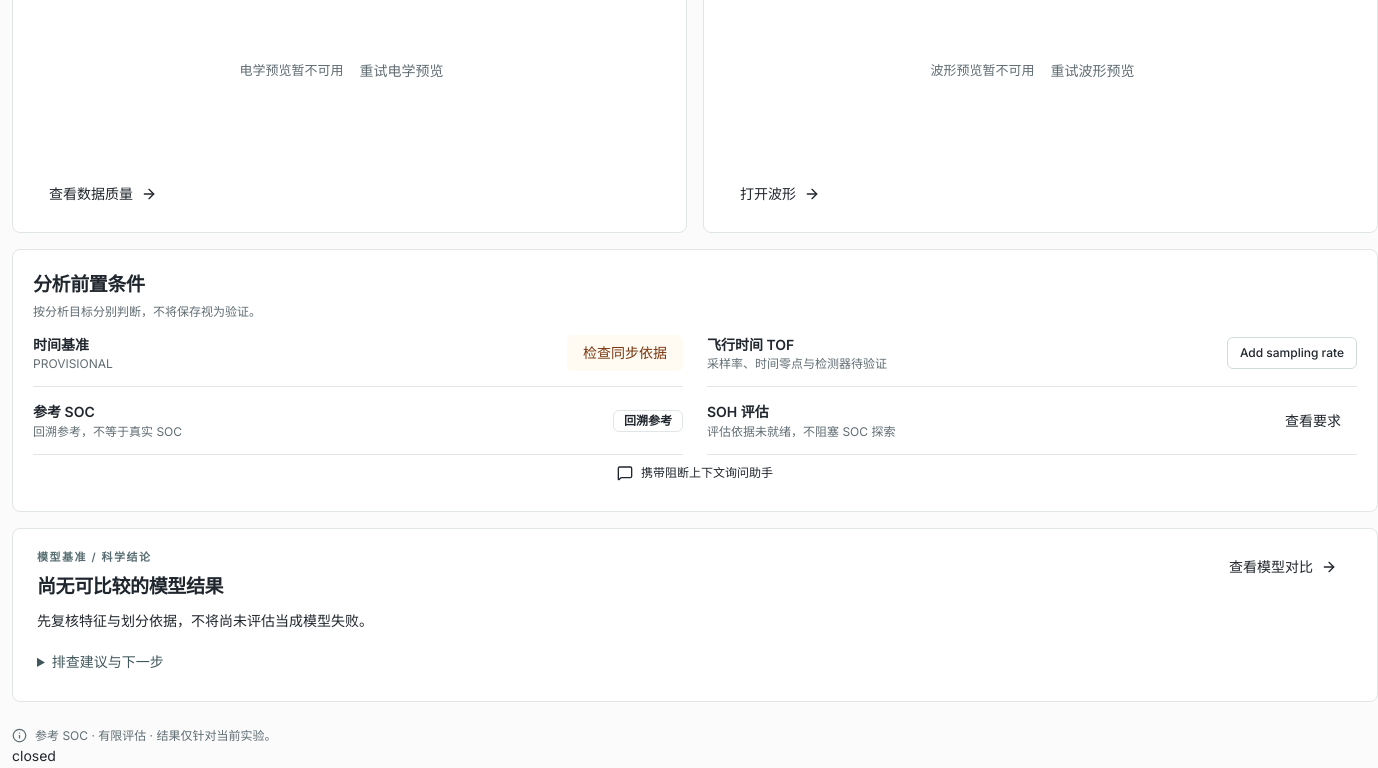
概览交互闭环 › 报错上下文进入全局助手，不发送 AI 请求
This screenshot has width=1378, height=768.
(page scrolled)
Click the button "携带阻断上下文询问助手" at (695, 473), box [33,455,1357,491]
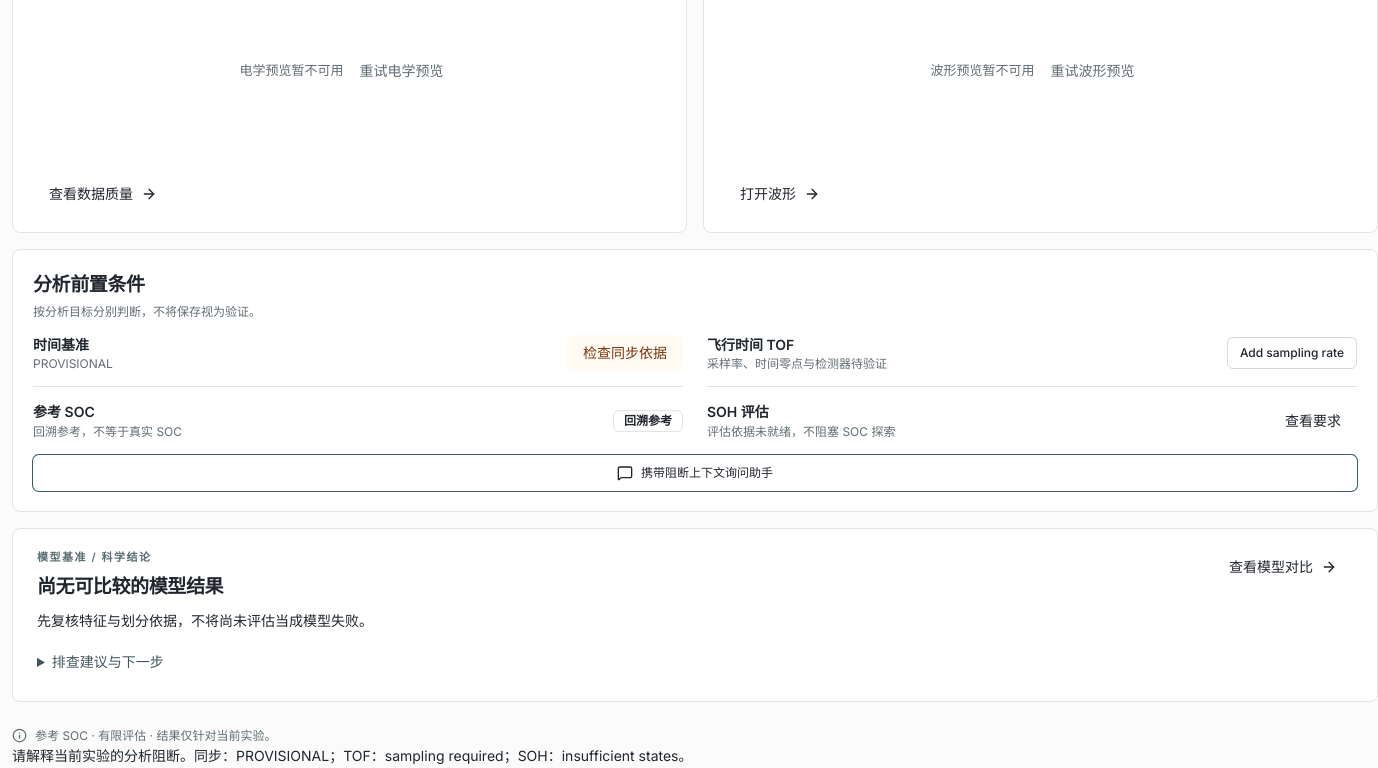
Expected: the text with test id "assistant-context" shows "sampling required", [12,747,692,764]
